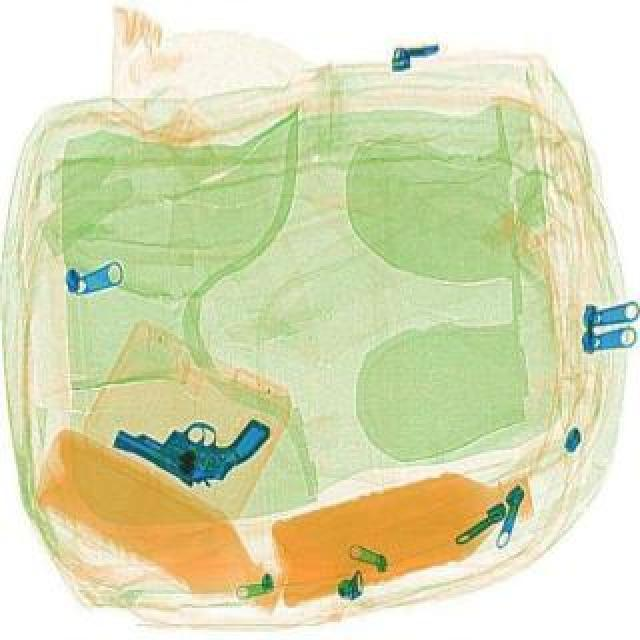gun: (110, 412, 270, 486)
